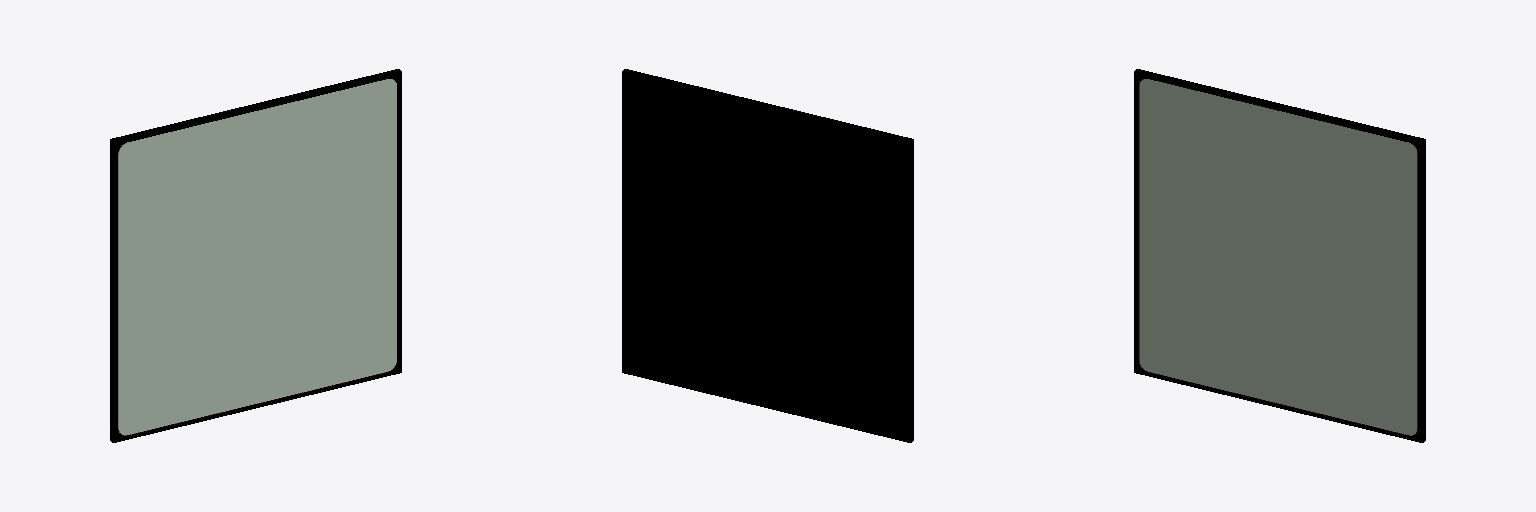
3 renders of one model, left to right at view 1: azimuth 30°, elevation 25°; view 2: azimuth 150°, elevation 25°; view 3: azimuth 330°, elevation 25°, orthographic.
Visible parts, largest first — view 1: Cube.001_Cube.003; view 2: Cube.001_Cube.003; view 3: Cube.001_Cube.003.
Part boxes in pixels (x1,y1,x2,y2): Cube.001_Cube.003: (110, 69, 401, 442); Cube.001_Cube.003: (622, 69, 913, 442); Cube.001_Cube.003: (1134, 69, 1425, 442).
Bounding box in the file's own units: 2 × 2 × 0.04.
Materials: 1 (1 with a texture image).